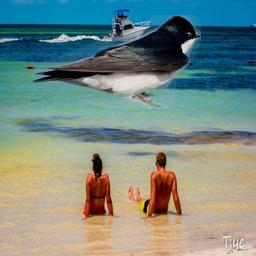Swallow: (31, 15, 201, 109)
